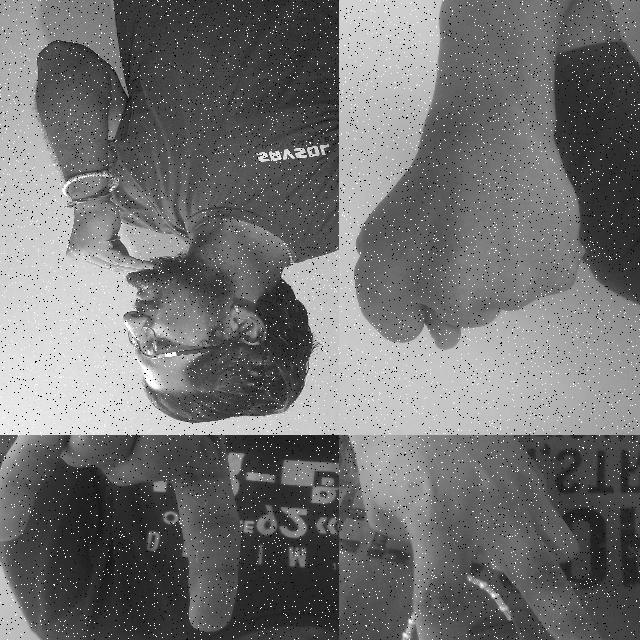Chin Flick: (59, 192, 278, 432)
Corna: (0, 435, 248, 636)
Dulya: (347, 91, 594, 356)
Reversed Victory: (339, 435, 627, 640)
